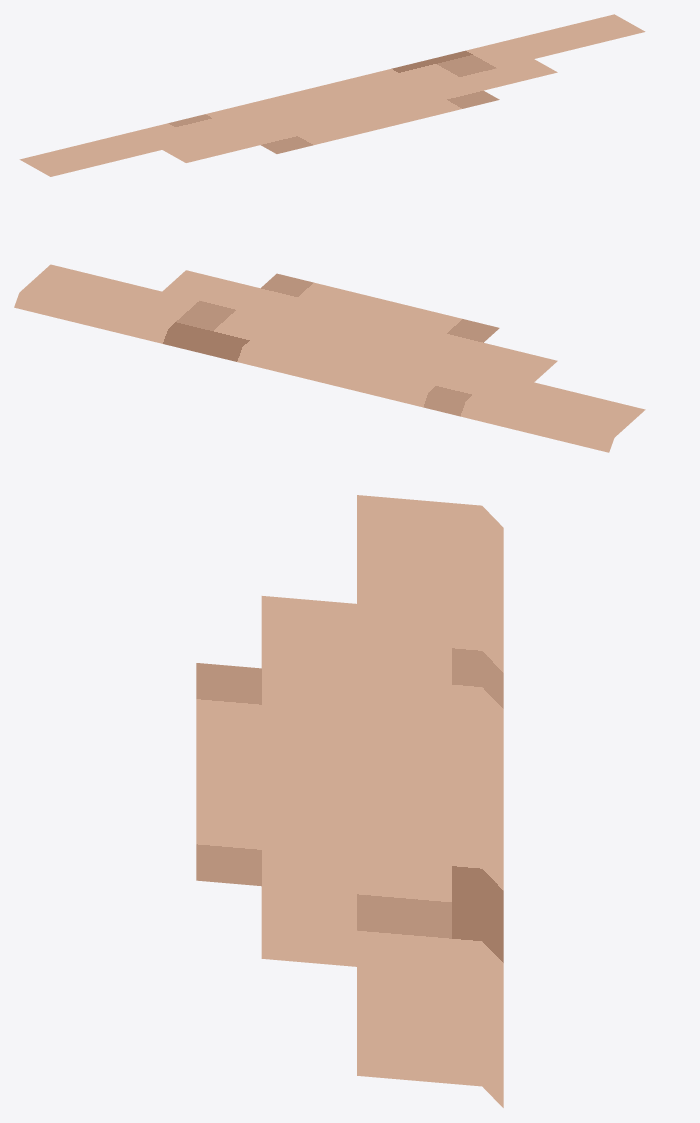
The picture shows the model from 3 angles, top to bottom: view 1: azimuth 30°, elevation 25°; view 2: azimuth 150°, elevation 25°; view 3: azimuth 270°, elevation 25°; orthographic projection. The views are drawn at different scales.
Size of the model in its own units: 1 by 0.0373 by 0.2236.
Materials: 1 (1 with a texture image).
